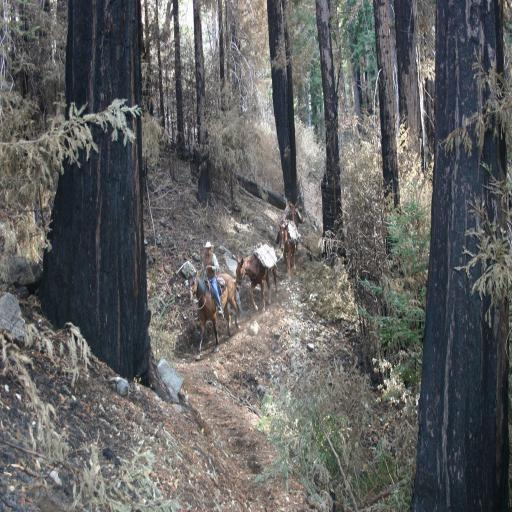horse: (187, 270, 241, 360), (236, 251, 279, 312), (277, 218, 300, 280), (284, 198, 300, 228)
